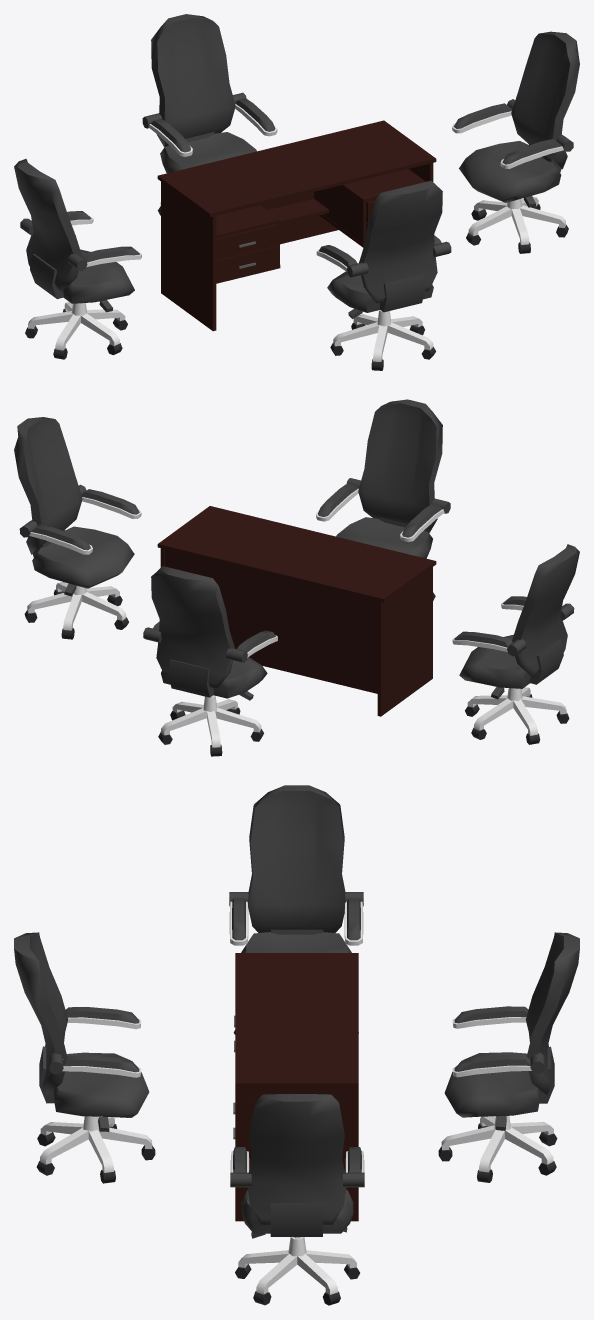
The model's file is beso-meeting-room.glb.
3 views of the same model, one above another, from view 1: azimuth 30°, elevation 25°; view 2: azimuth 150°, elevation 25°; view 3: azimuth 270°, elevation 25° (orthographic). The views are drawn at different scales.
Visible parts, largest first — view 1: office_chair_017 (×4), office_table_030; view 2: office_chair_017 (×4), office_table_030; view 3: office_chair_017 (×4), office_table_030.
Boxes of the visible parts, x1,y1,x2,y2 form: office_chair_017 (×4): [14, 14, 579, 370]; office_table_030: [157, 120, 436, 331]; office_chair_017 (×4): [14, 399, 579, 756]; office_table_030: [157, 506, 436, 716]; office_chair_017 (×4): [14, 785, 579, 1305]; office_table_030: [233, 953, 358, 1221].
Bounding box in the file's own units: 3.65 × 1.16 × 2.76.
